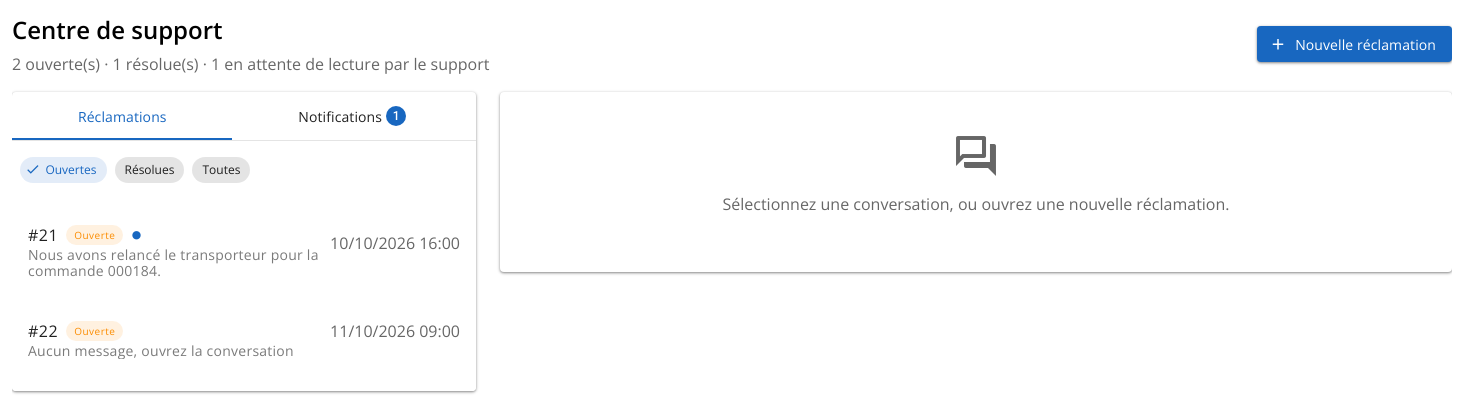
Test: Centre de support › liste les réclamations ouvertes avec les compteurs
Expected: the text "#15" is not shown
Click the element showing "Résolues": coordinates (149, 170) [114,157,184,183]
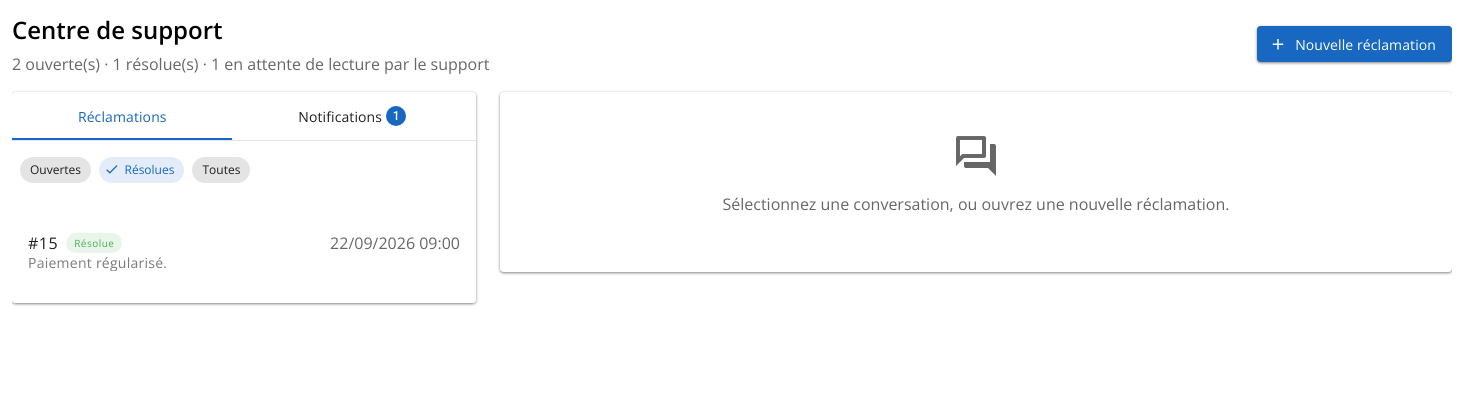
Now the text "#15" is shown, box [28,231,58,255]
Now the text "#21" is gone
